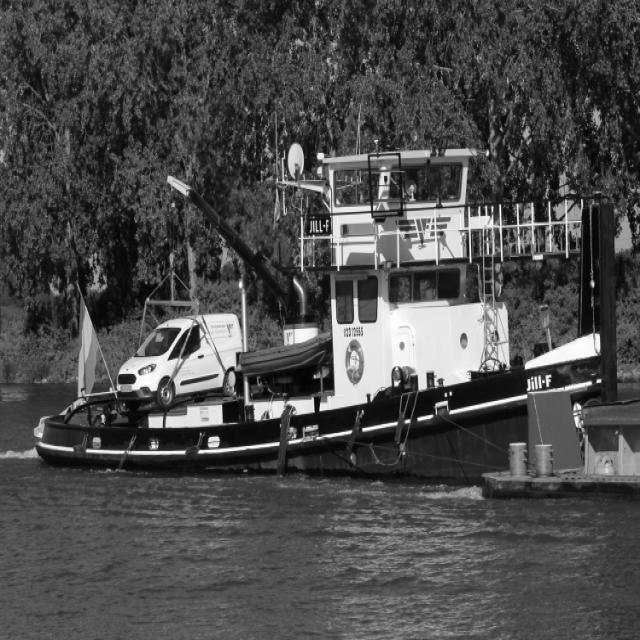tugboat: (30, 138, 615, 496)
